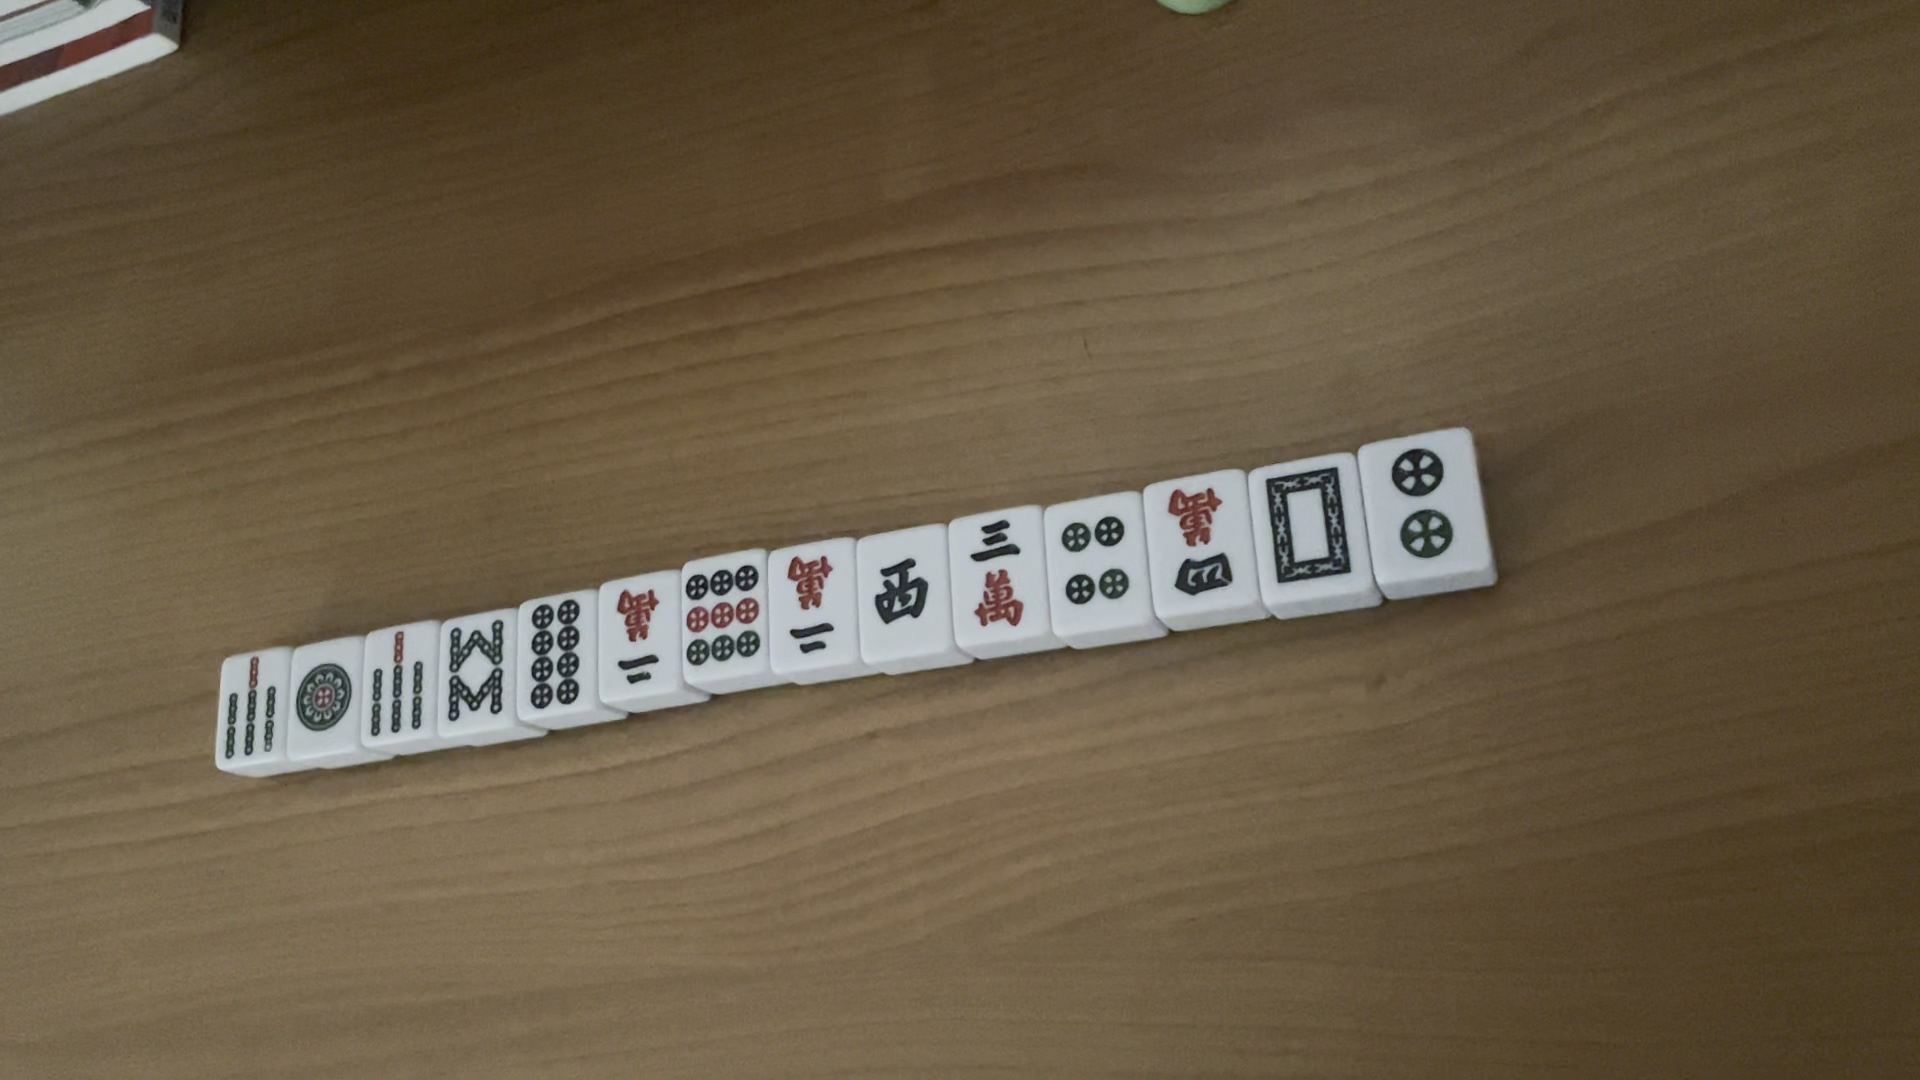b-7: (216, 654, 281, 764), (365, 628, 426, 742)
b-8: (442, 617, 510, 723)
c-2: (604, 582, 669, 694), (781, 546, 843, 662)
c-3: (965, 517, 1035, 636)
c-4: (1160, 480, 1238, 603)
d-1: (289, 659, 355, 733)
d-2: (1387, 443, 1464, 568)
d-4: (1058, 514, 1131, 617)
d-8: (526, 599, 585, 712)
d-9: (684, 560, 764, 670)
hornors-west: (866, 550, 931, 628)
hornors-white: (1261, 465, 1356, 585)
